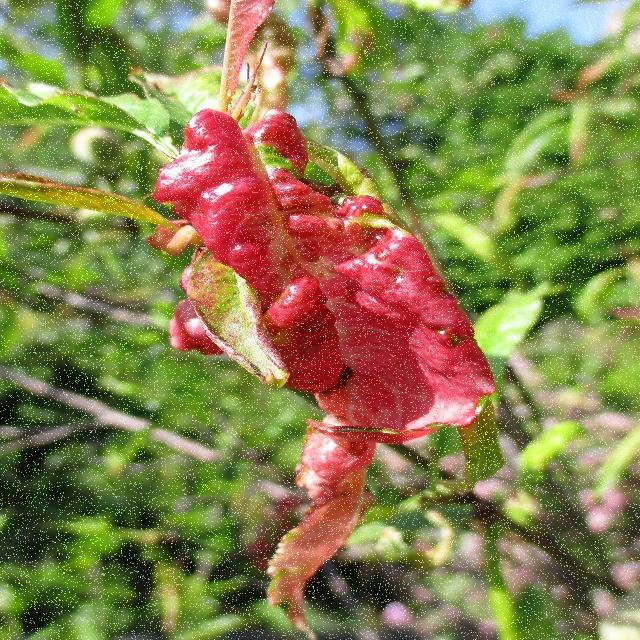leaf_curl: (129, 100, 500, 609)
